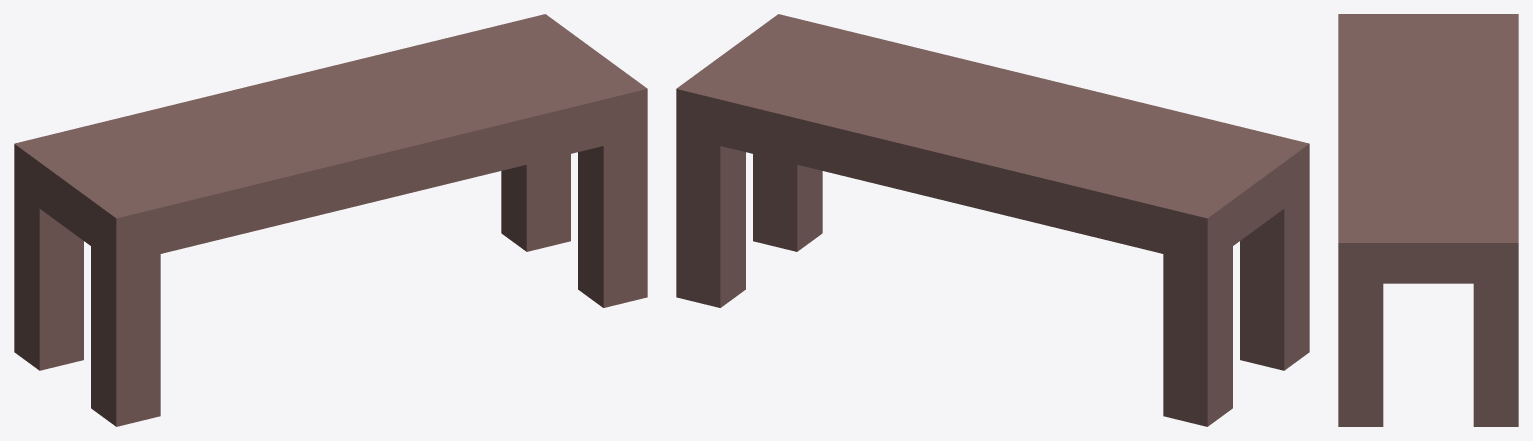
The model's file is Table.fbx.
3 views of the same model, side by side, from view 1: azimuth 30°, elevation 25°; view 2: azimuth 150°, elevation 25°; view 3: azimuth 270°, elevation 25° (orthographic). The views are drawn at different scales.
Parts seen in each view (by area): view 1: Cube, Cube.003, Cube.004, Cube.002, Cube.001; view 2: Cube, Cube.002, Cube.001, Cube.003, Cube.004; view 3: Cube, Cube.004, Cube.001.
Part boxes in pixels (<box>): Cube: <box>14,14,647,264</box>; Cube.003: <box>91,223,160,426</box>; Cube.004: <box>578,135,647,307</box>; Cube.002: <box>14,172,83,370</box>; Cube.001: <box>501,154,570,251</box>; Cube: <box>676,14,1309,264</box>; Cube.002: <box>1163,223,1232,426</box>; Cube.001: <box>676,112,745,307</box>; Cube.003: <box>1240,167,1309,370</box>; Cube.004: <box>753,154,822,251</box>; Cube: <box>1338,14,1518,283</box>; Cube.004: <box>1338,263,1383,426</box>; Cube.001: <box>1473,263,1518,426</box>.
Size of the model in its own units: 600 by 225 by 200.
